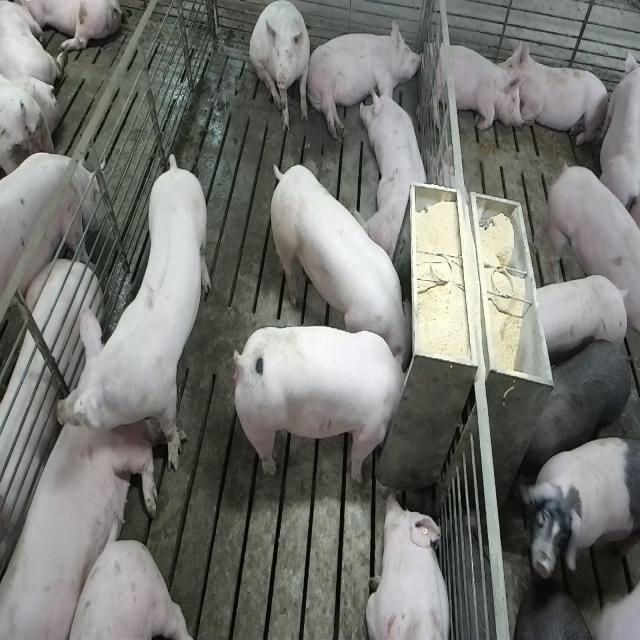Feeding: (265, 161, 412, 365), (227, 323, 409, 483)
Lateral_lying: (306, 16, 424, 142)
Sitting: (250, 1, 312, 136)
Standing: (54, 157, 212, 482), (0, 156, 99, 344), (517, 433, 636, 582), (518, 337, 636, 481), (544, 159, 637, 336), (532, 275, 630, 358)
Sternal_lying: (0, 368, 156, 640), (363, 71, 433, 260), (366, 489, 452, 640), (509, 42, 612, 148), (424, 36, 522, 135)
